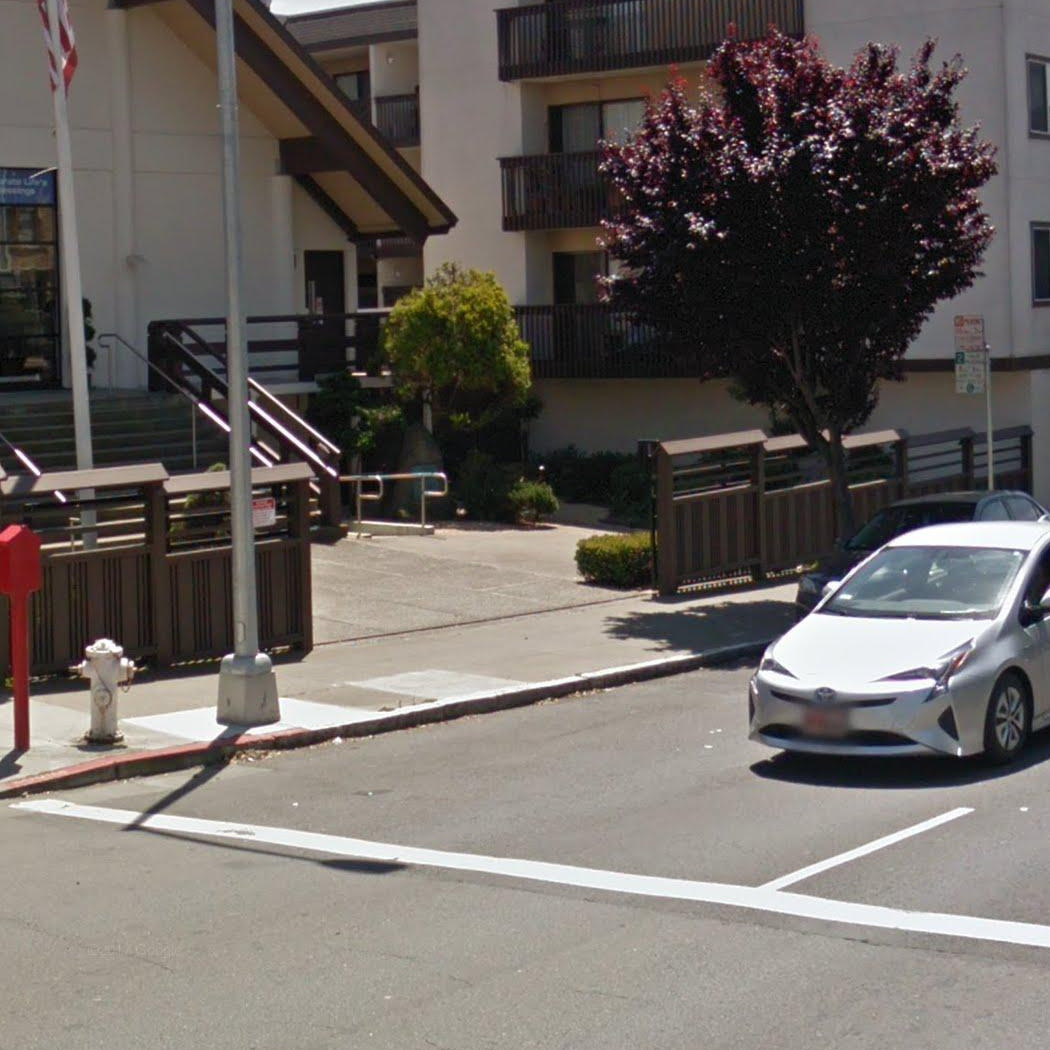2 Hour Parking: (953, 350, 987, 396)
No Parking: (952, 314, 986, 354)
